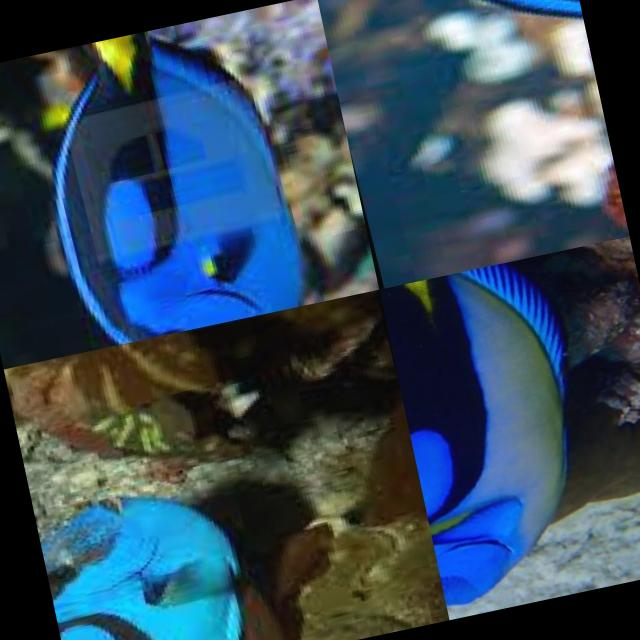BlueTang: (0, 1, 344, 357), (379, 240, 640, 619), (30, 448, 299, 640), (316, 0, 603, 167)
